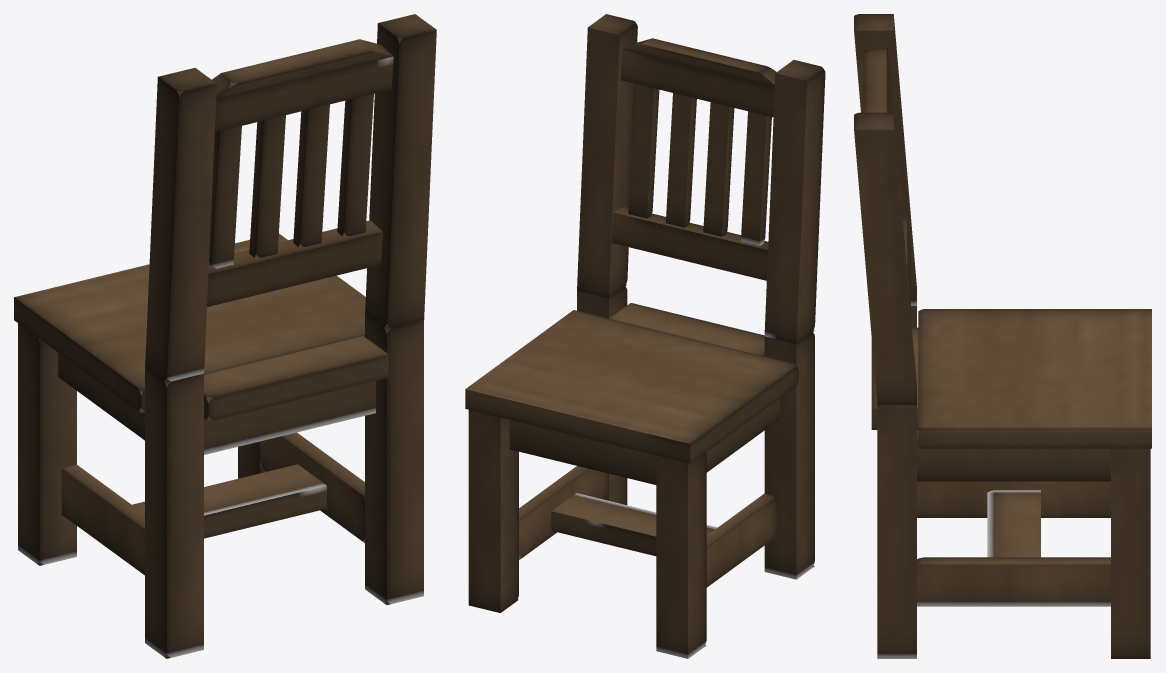
Rendered from chair.obj.
3 renders of one model, left to right at view 1: azimuth 30°, elevation 25°; view 2: azimuth 150°, elevation 25°; view 3: azimuth 270°, elevation 25°, orthographic. The views are drawn at different scales.
Parts seen in each view (by area): view 1: bodyModel0, bodyModel6, bodyModel7, bodyModel4, bodyModel2, bodyModel5, bodyModel18, bodyModel1, bodyModel14, bodyModel17, bodyModel8, bodyModel16 (+7 smaller); view 2: bodyModel0, bodyModel6, bodyModel7, bodyModel5, bodyModel4, bodyModel3, bodyModel1, bodyModel14, bodyModel8, bodyModel17, bodyModel16, bodyModel15 (+7 smaller); view 3: bodyModel0, bodyModel7, bodyModel2, bodyModel15, bodyModel3, bodyModel1, bodyModel16, bodyModel6, bodyModel17, bodyModel9, bodyModel18.
Boxes of the visible parts, x1=… form: bodyModel0: x1=14, y1=233, x2=365, y2=413; bodyModel6: x1=145, y1=68, x2=216, y2=382; bodyModel7: x1=365, y1=14, x2=436, y2=328; bodyModel4: x1=145, y1=367, x2=203, y2=658; bodyModel2: x1=365, y1=313, x2=423, y2=604; bodyModel5: x1=18, y1=323, x2=76, y2=565; bodyModel18: x1=204, y1=336, x2=388, y2=421; bodyModel1: x1=58, y1=353, x2=375, y2=454; bodyModel14: x1=207, y1=220, x2=382, y2=306; bodyModel17: x1=132, y1=464, x2=326, y2=538; bodyModel8: x1=214, y1=56, x2=393, y2=132; bodyModel16: x1=61, y1=465, x2=144, y2=575; bodyModel0: x1=465, y1=310, x2=798, y2=463; bodyModel6: x1=764, y1=60, x2=825, y2=343; bodyModel7: x1=577, y1=14, x2=637, y2=298; bodyModel5: x1=656, y1=452, x2=706, y2=658; bodyModel4: x1=764, y1=332, x2=814, y2=579; bodyModel3: x1=468, y1=410, x2=518, y2=612; bodyModel1: x1=509, y1=398, x2=780, y2=484; bodyModel14: x1=611, y1=206, x2=768, y2=280; bodyModel8: x1=620, y1=49, x2=774, y2=117; bodyModel17: x1=551, y1=493, x2=717, y2=556; bodyModel16: x1=706, y1=493, x2=777, y2=587; bodyModel15: x1=519, y1=466, x2=608, y2=559; bodyModel0: x1=918, y1=309, x2=1151, y2=448; bodyModel7: x1=854, y1=112, x2=916, y2=404; bodyModel2: x1=877, y1=405, x2=916, y2=658; bodyModel15: x1=917, y1=557, x2=1110, y2=606; bodyModel3: x1=1111, y1=448, x2=1150, y2=658; bodyModel1: x1=917, y1=430, x2=1110, y2=481; bodyModel16: x1=917, y1=481, x2=1110, y2=517; bodyModel6: x1=854, y1=14, x2=916, y2=305; bodyModel17: x1=987, y1=490, x2=1040, y2=557; bodyModel9: x1=863, y1=48, x2=887, y2=112; bodyModel18: x1=871, y1=327, x2=918, y2=429.
Size of the model in its own units: 0.75 by 1.56 by 0.7969.
Materials: 1 (1 with a texture image).
